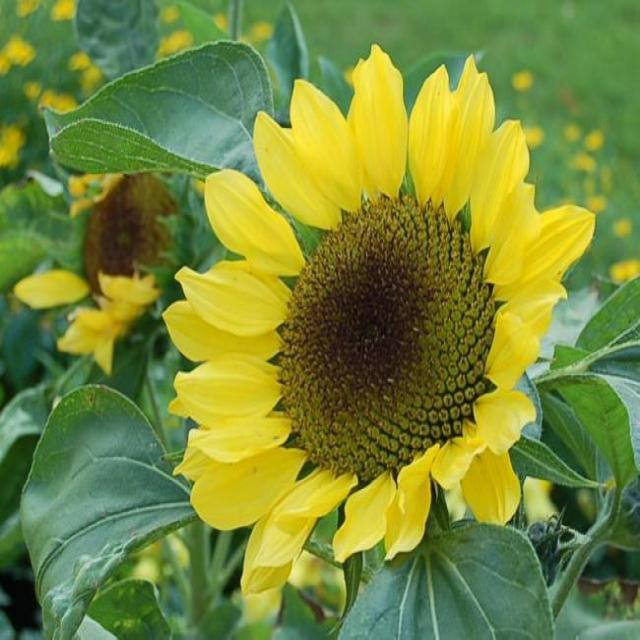sunflower: (173, 48, 596, 592)
